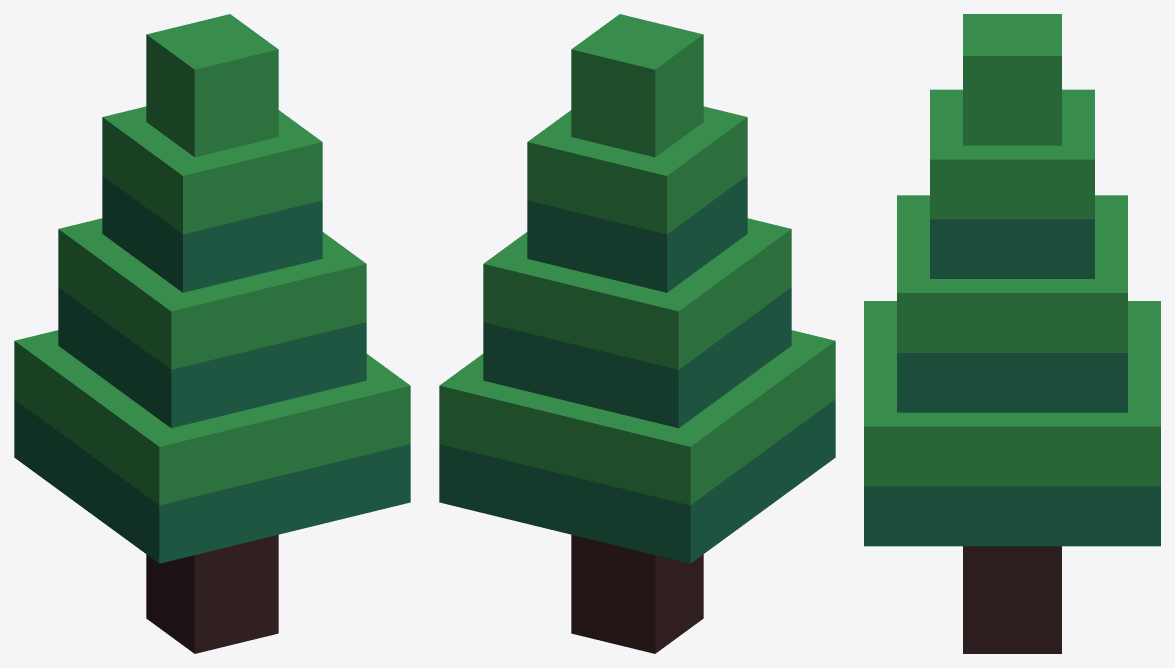
File: Buildings Final For Import-8.obj
The picture shows the model from 3 angles, left to right: view 1: azimuth 30°, elevation 25°; view 2: azimuth 150°, elevation 25°; view 3: azimuth 270°, elevation 25°; orthographic projection. The views are drawn at different scales.
Size of the model in its own units: 0.9 by 2 by 0.9.
Materials: 1 (1 with a texture image).
